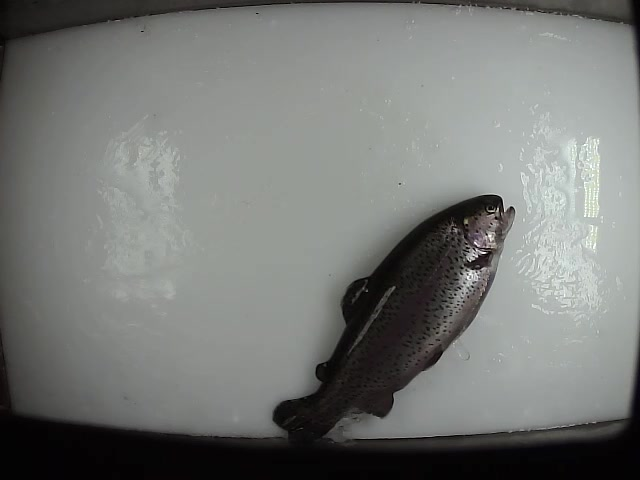Fish: (272, 192, 514, 443)
